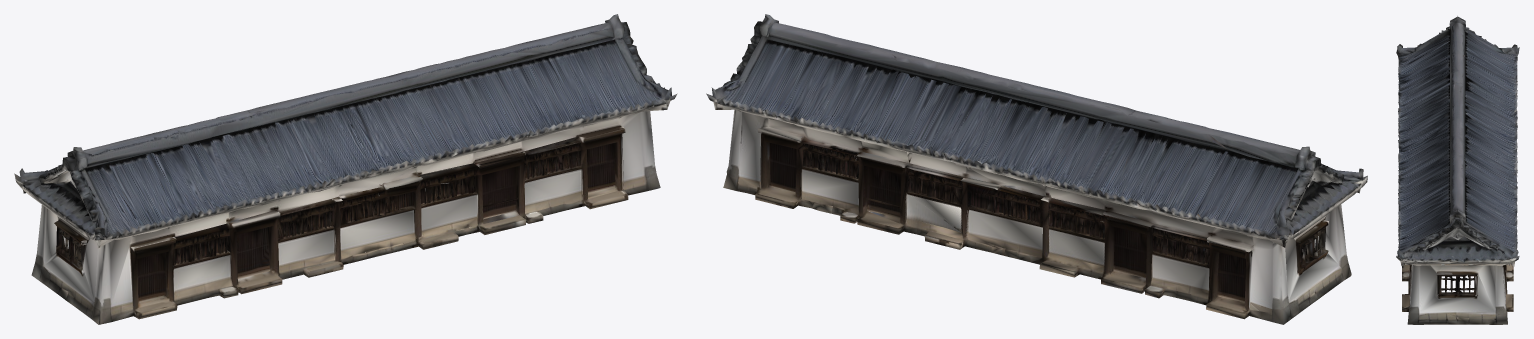
The model's file is barracks_nagaya.glb.
3 renders of one model, left to right at view 1: azimuth 30°, elevation 25°; view 2: azimuth 150°, elevation 25°; view 3: azimuth 270°, elevation 25°, orthographic. The views are drawn at different scales.
Visible parts, largest first — view 1: node_0; view 2: node_0; view 3: node_0.
Boxes of the visible parts, box(x1,y1,x2,y2) form: node_0: box(14, 14, 677, 324); node_0: box(706, 14, 1367, 324); node_0: box(1396, 16, 1519, 324).
Size of the model in its own units: 24 by 6 by 6.
1 material, 1 textured.
